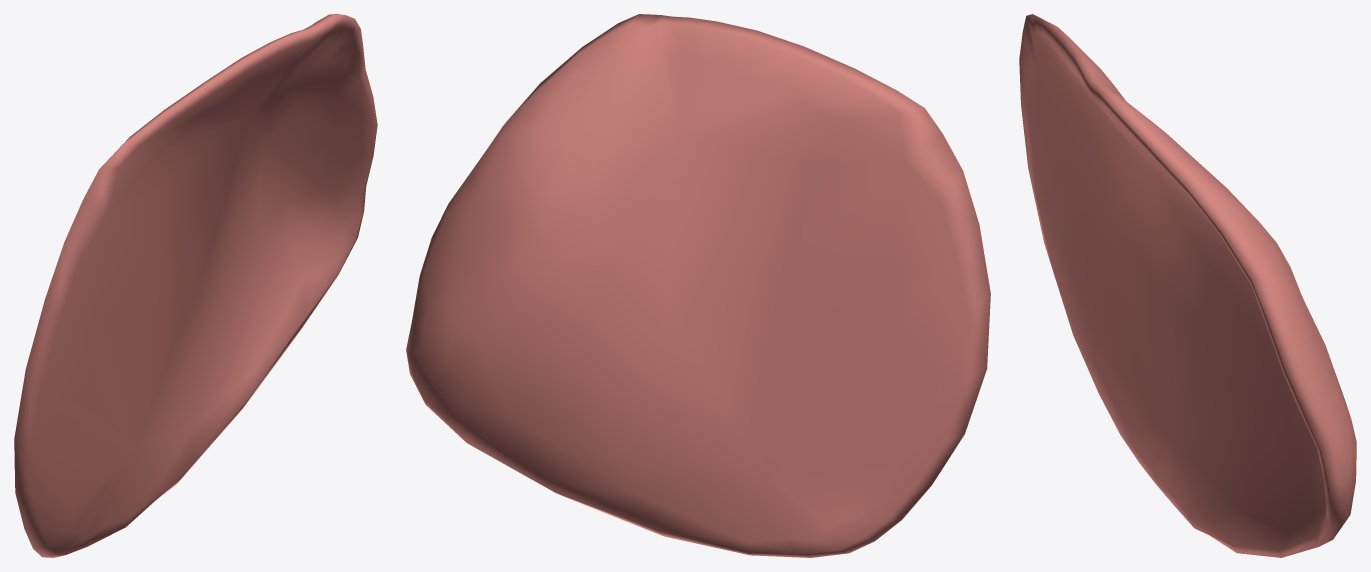
3 renders of one model, left to right at view 1: azimuth 30°, elevation 25°; view 2: azimuth 150°, elevation 25°; view 3: azimuth 270°, elevation 25°, orthographic. The views are drawn at different scales.
Parts seen in each view (by area): view 1: ZA_d2de9b355e5cbcec; view 2: ZA_d2de9b355e5cbcec; view 3: ZA_d2de9b355e5cbcec.
Boxes of the visible parts, box(x1,y1,x2,y2) form: ZA_d2de9b355e5cbcec: box(14, 14, 377, 557); ZA_d2de9b355e5cbcec: box(406, 14, 990, 557); ZA_d2de9b355e5cbcec: box(1019, 14, 1356, 557).
Size of the model in its own units: 0.0128 by 0.0128 by 0.00744.
